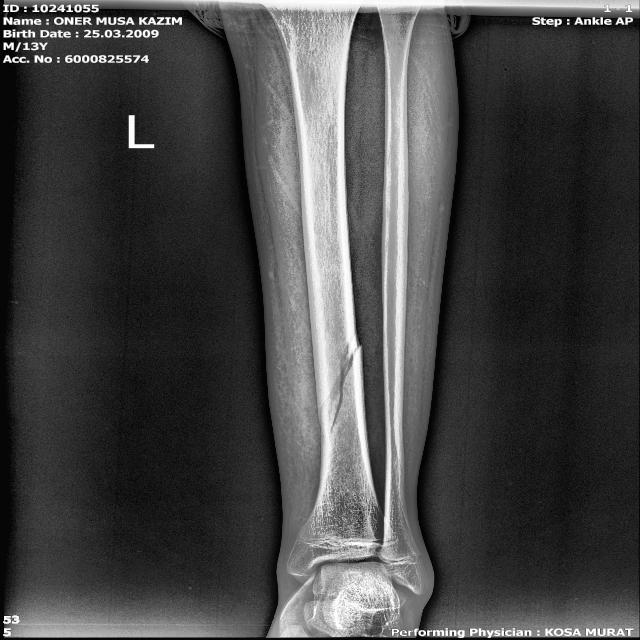Fracture: (301, 327, 375, 439)
